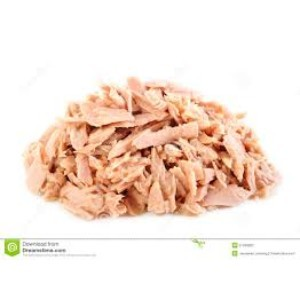tuna_brain food: (51, 103, 241, 200)
